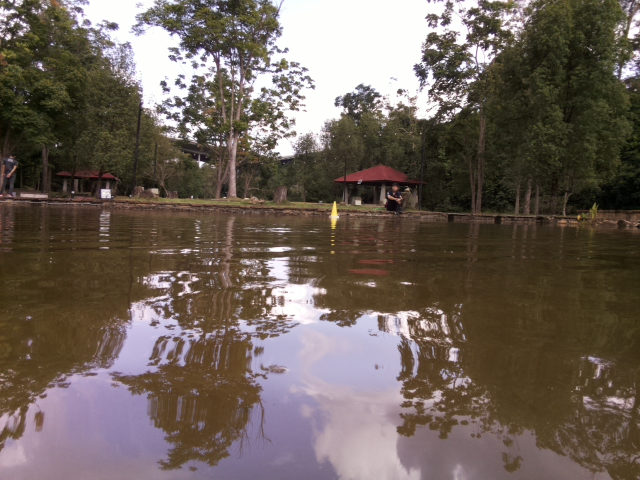checkpoint: (326, 199, 341, 219)
